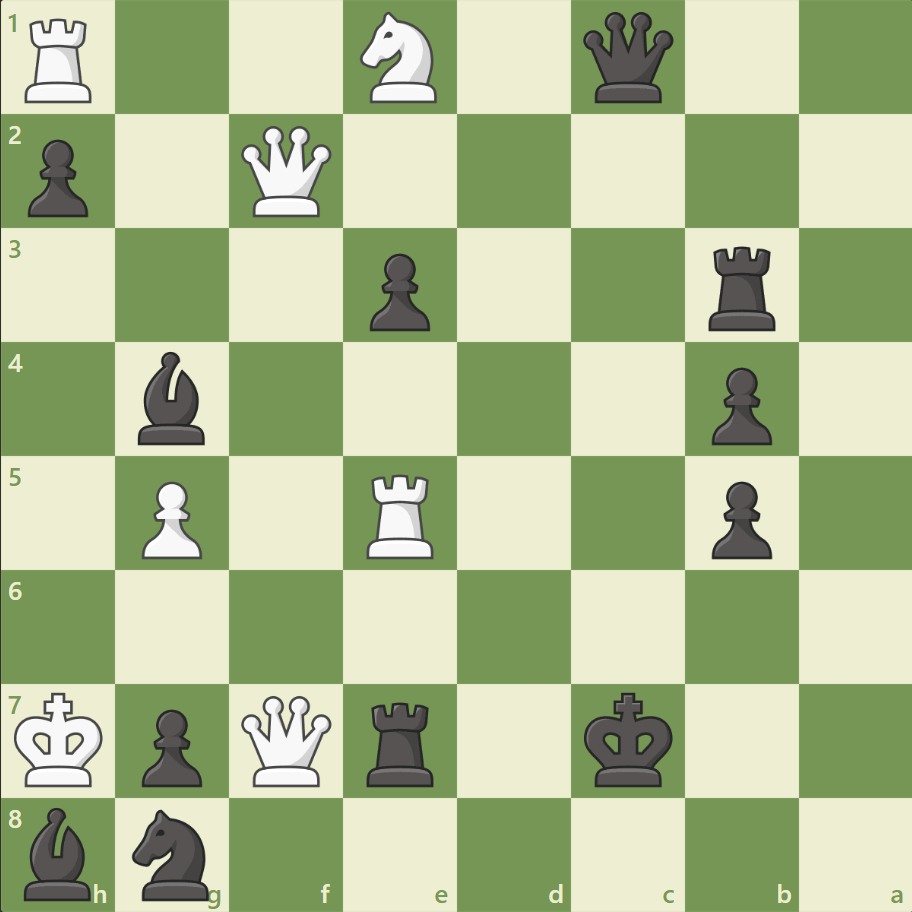K: (11, 685, 111, 793)
N: (351, 7, 449, 110)
P: (133, 473, 208, 564)
Q: (237, 122, 336, 222), (237, 690, 336, 789)
R: (19, 12, 102, 109), (360, 466, 442, 563)
b: (17, 801, 101, 904), (131, 347, 215, 449)
k: (579, 685, 679, 793)
n: (124, 802, 222, 904)
p: (133, 700, 208, 791), (701, 473, 776, 564), (701, 359, 776, 450), (20, 132, 95, 223), (361, 246, 435, 337)
q: (578, 9, 677, 108)
r: (700, 239, 783, 336), (360, 693, 442, 790)
